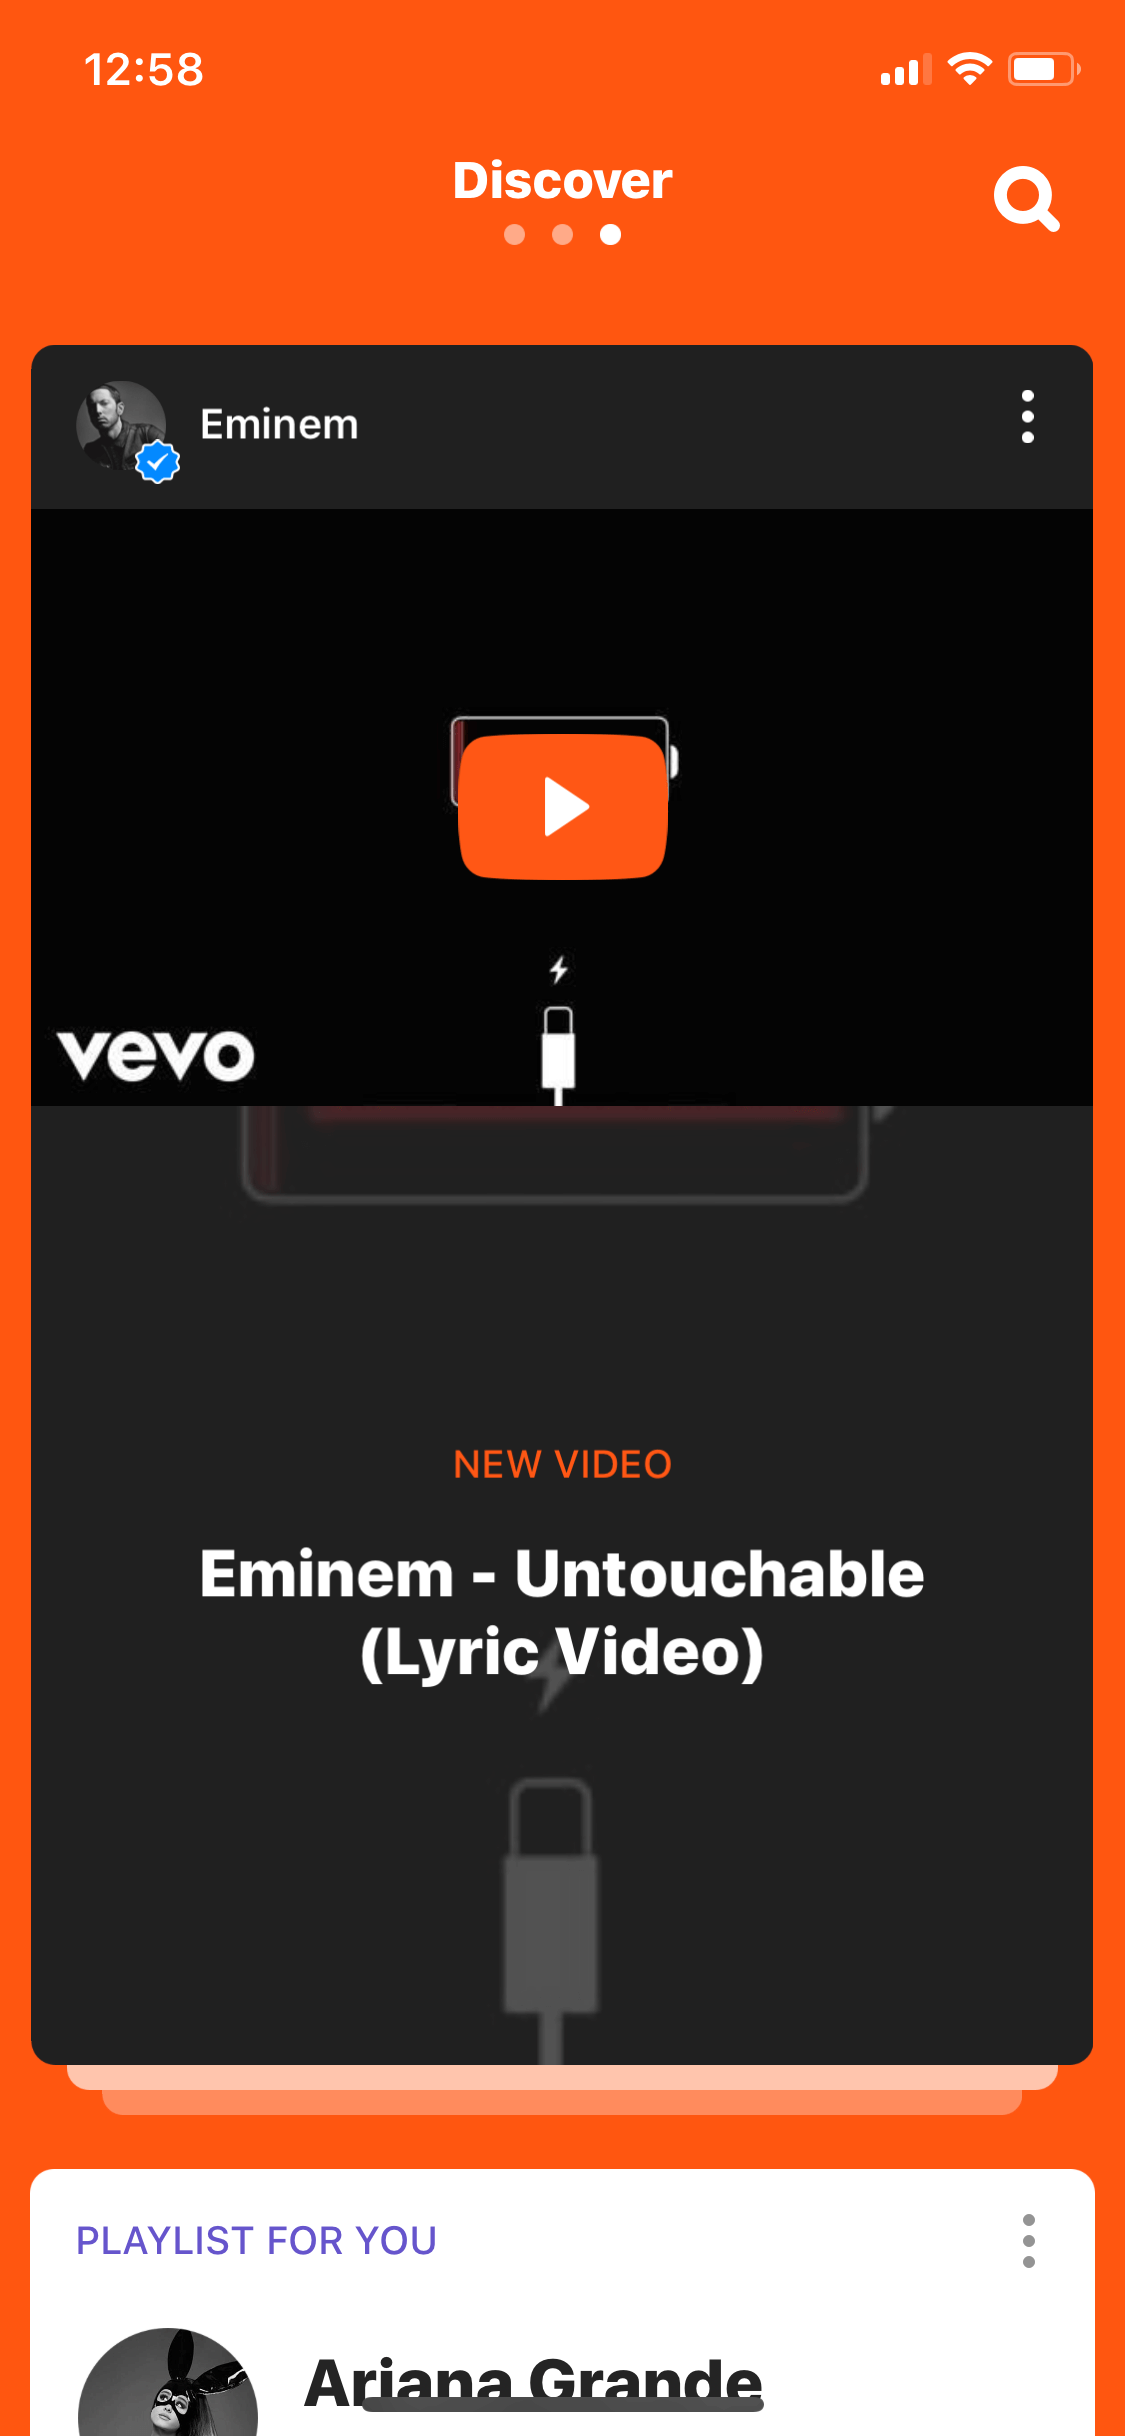Buttons: (939, 113, 1108, 281), (985, 370, 1071, 465), (988, 2194, 1058, 2287)
Page Controls: (465, 207, 667, 266)
